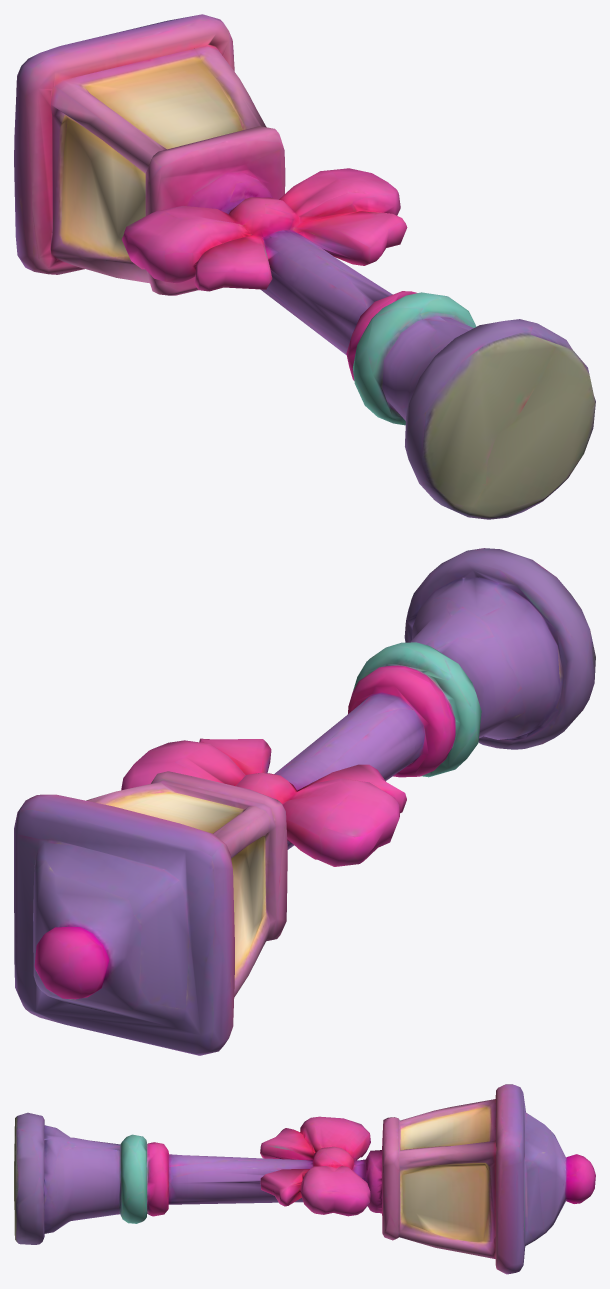
3 views of the same model, one above another, from view 1: azimuth 30°, elevation 25°; view 2: azimuth 150°, elevation 25°; view 3: azimuth 270°, elevation 25° (orthographic). The views are drawn at different scales.
Parts seen in each view (by area): view 1: material; view 2: material; view 3: material.
Boxes of the visible parts, left/top/right/bottom form: material: left=14, top=14, right=595, bottom=519; material: left=14, top=548, right=595, bottom=1055; material: left=14, top=1084, right=595, bottom=1274.
Size of the model in its own units: 0.3172 by 0.2677 by 1.
Materials: 1 (1 with a texture image).
